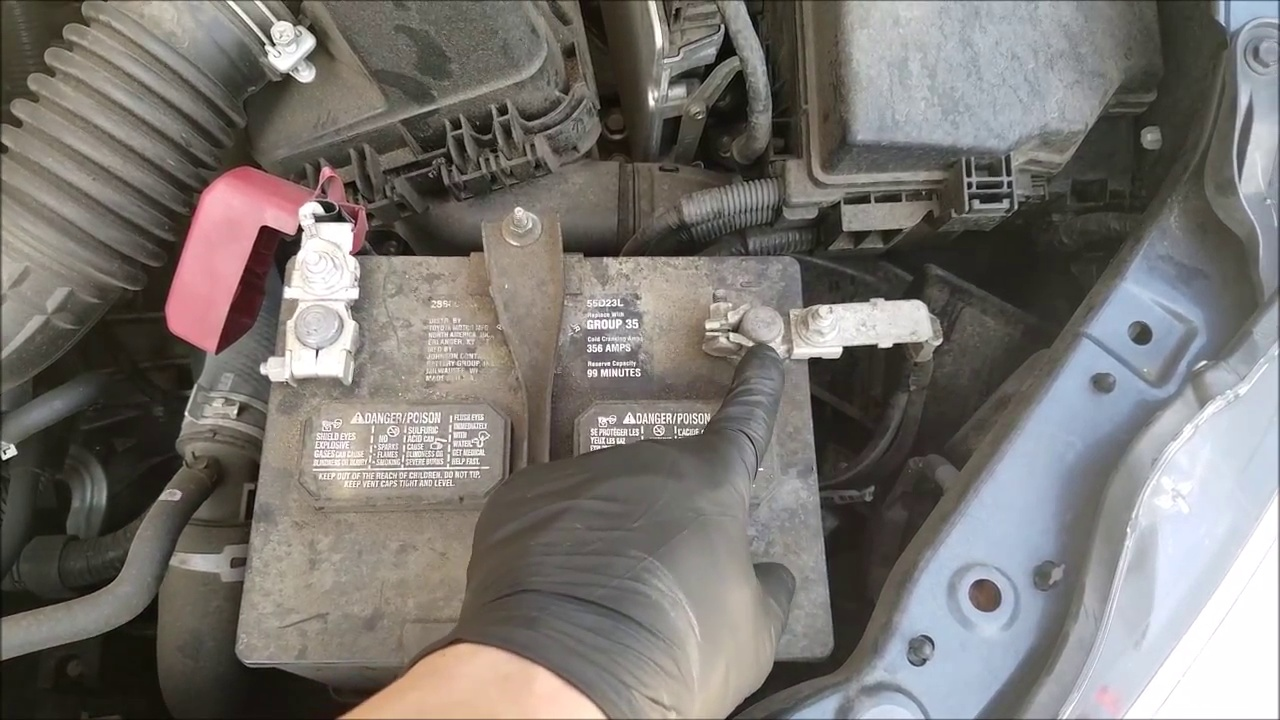battery: (255, 212, 843, 658)
neg_connected: (683, 266, 913, 370)
neg_touched: (680, 276, 887, 583)
pos_connected: (178, 161, 373, 381)
